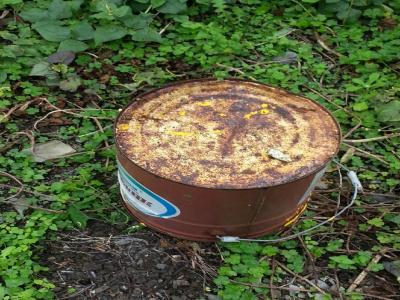bucket: (111, 75, 340, 245)
